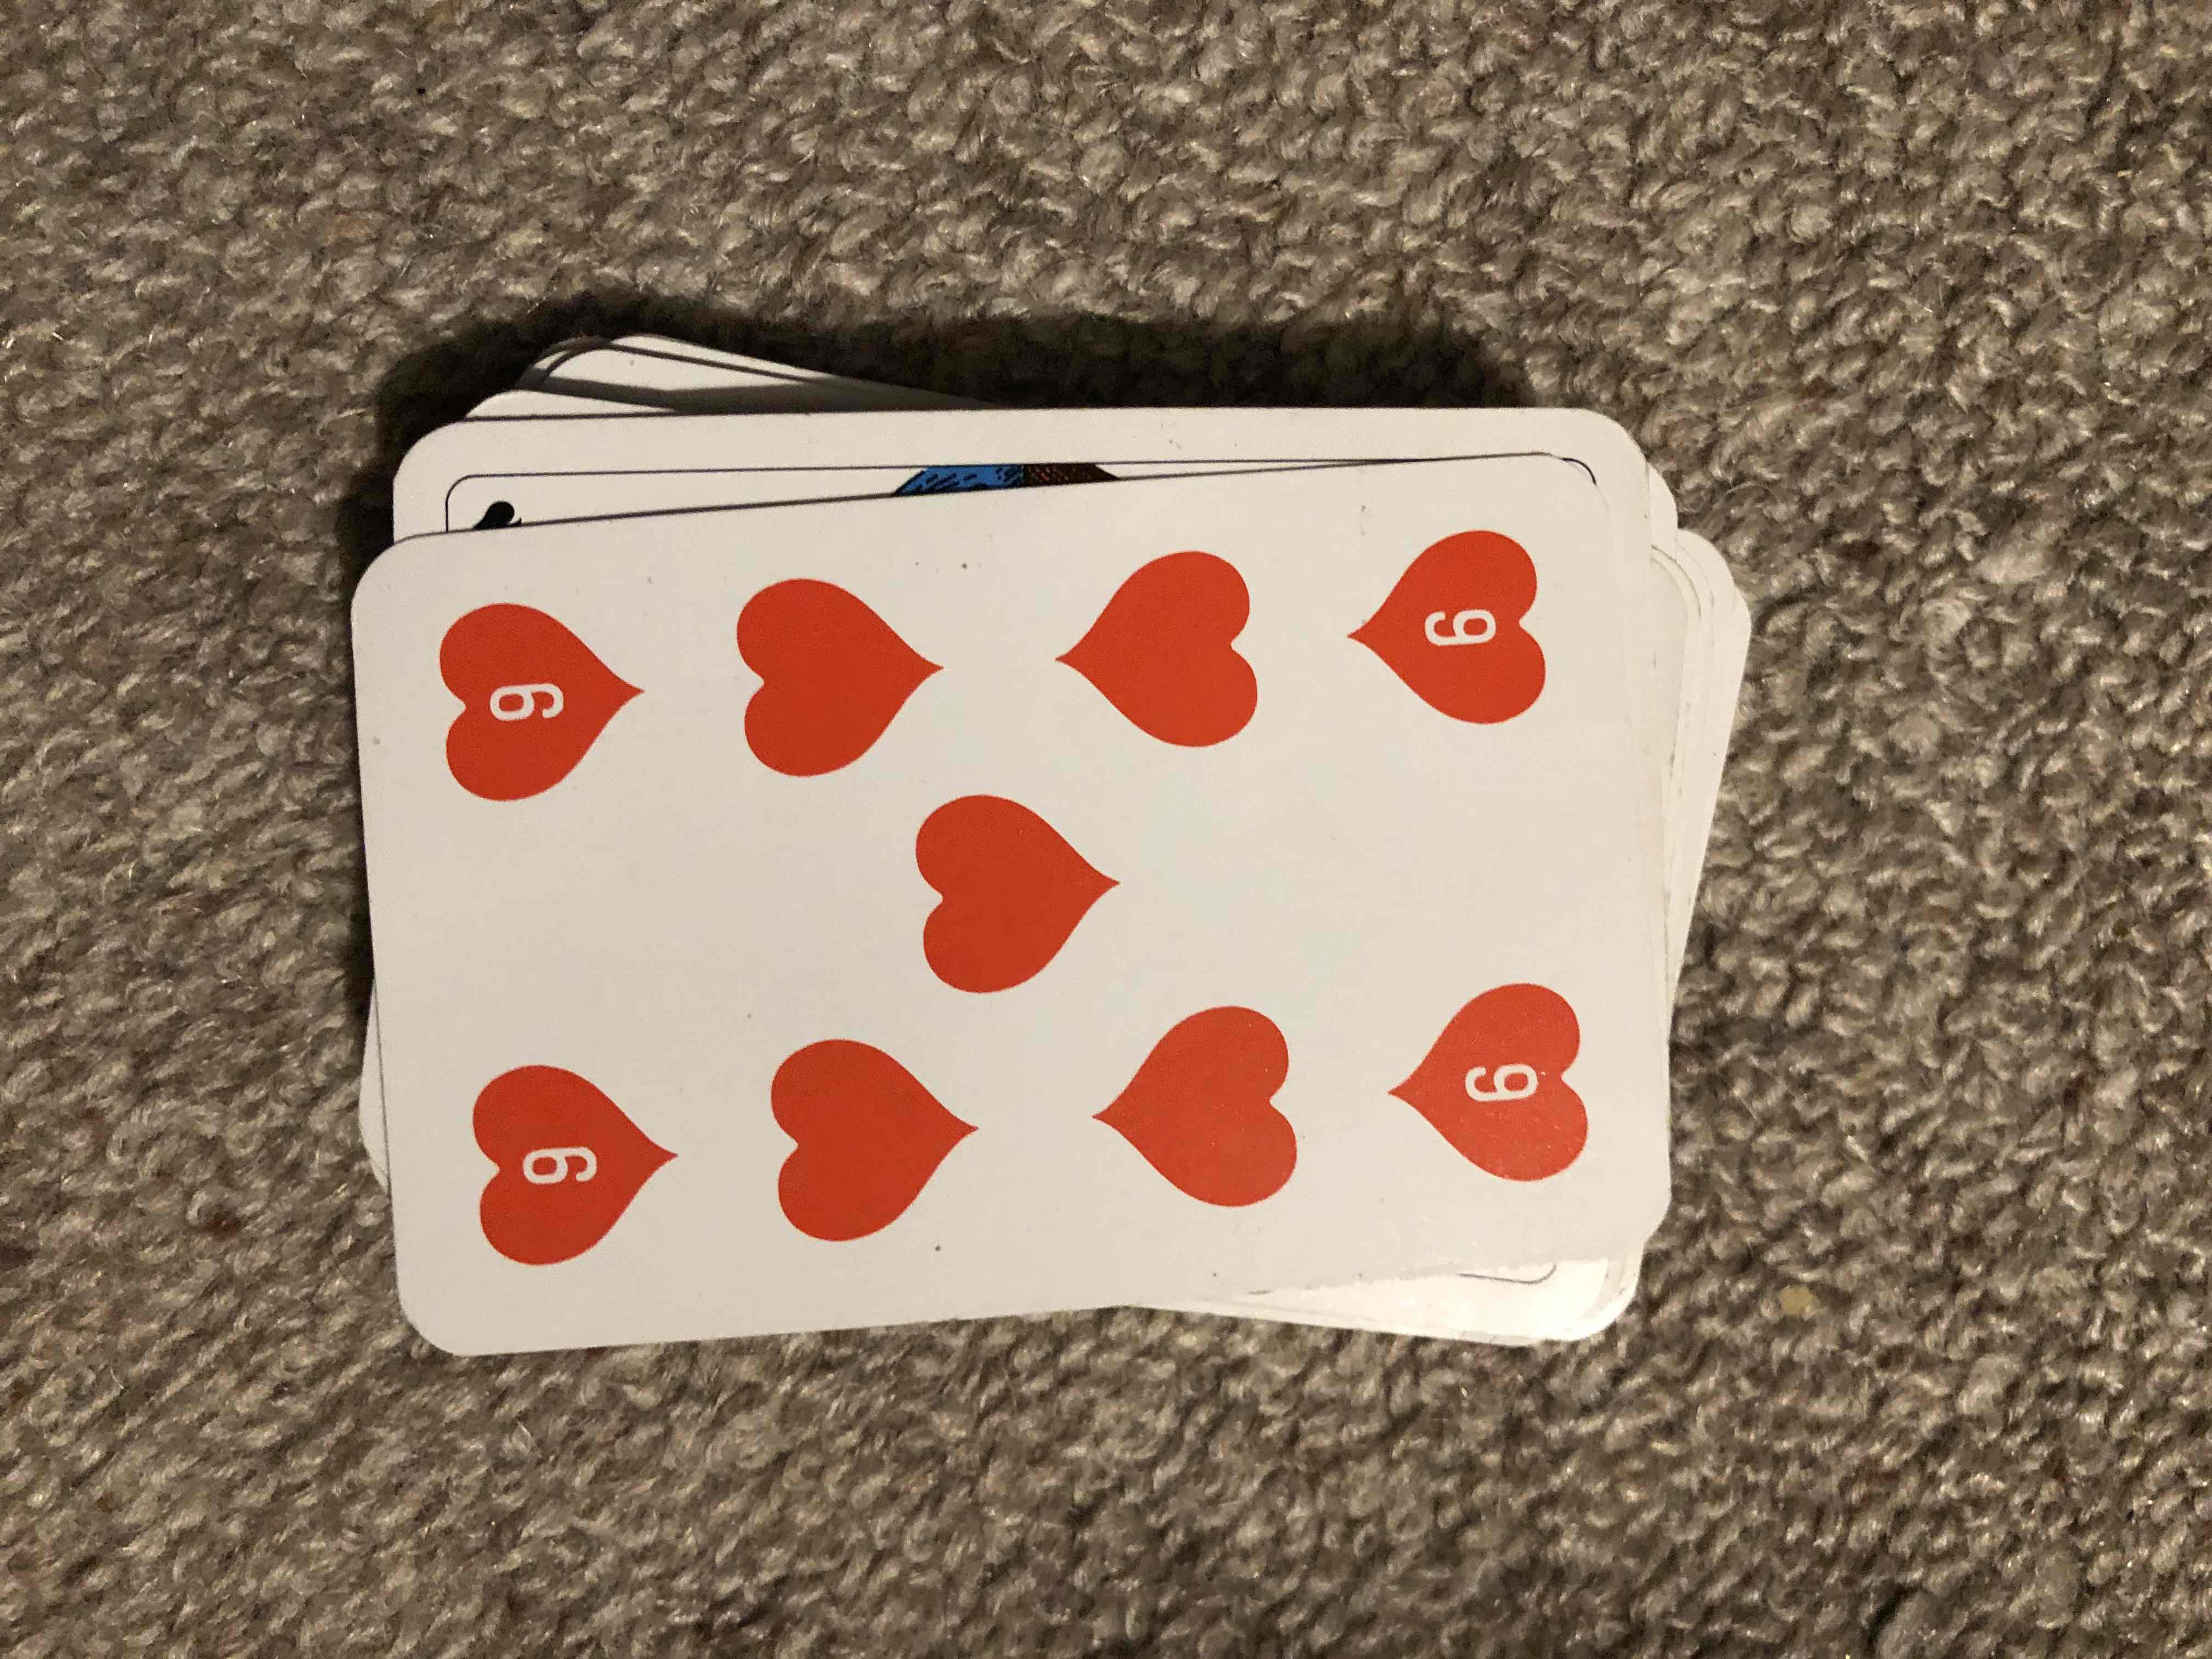hearts9: (343, 519, 1679, 1281)
